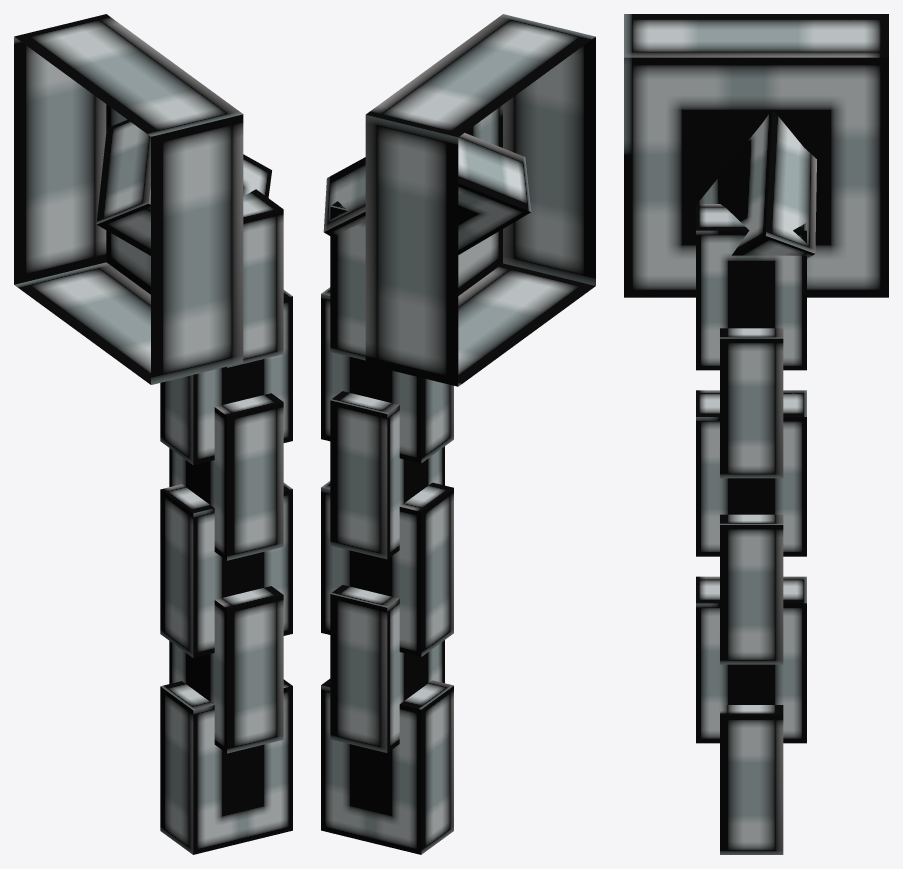
The model's file is deco_winter_end.FBX.
3 views of the same model, side by side, from view 1: azimuth 30°, elevation 25°; view 2: azimuth 150°, elevation 25°; view 3: azimuth 270°, elevation 25° (orthographic). The views are drawn at different scales.
Visible parts, largest first — view 1: deco_winter_end; view 2: deco_winter_end; view 3: deco_winter_end.
Boxes of the visible parts, x1,y1,x2,y2 form: deco_winter_end: (14, 14, 292, 854); deco_winter_end: (321, 14, 595, 854); deco_winter_end: (624, 14, 888, 854).
Bounding box in the file's own units: 0.3509 × 1.34 × 0.4281.
Materials: 1 (1 with a texture image).
